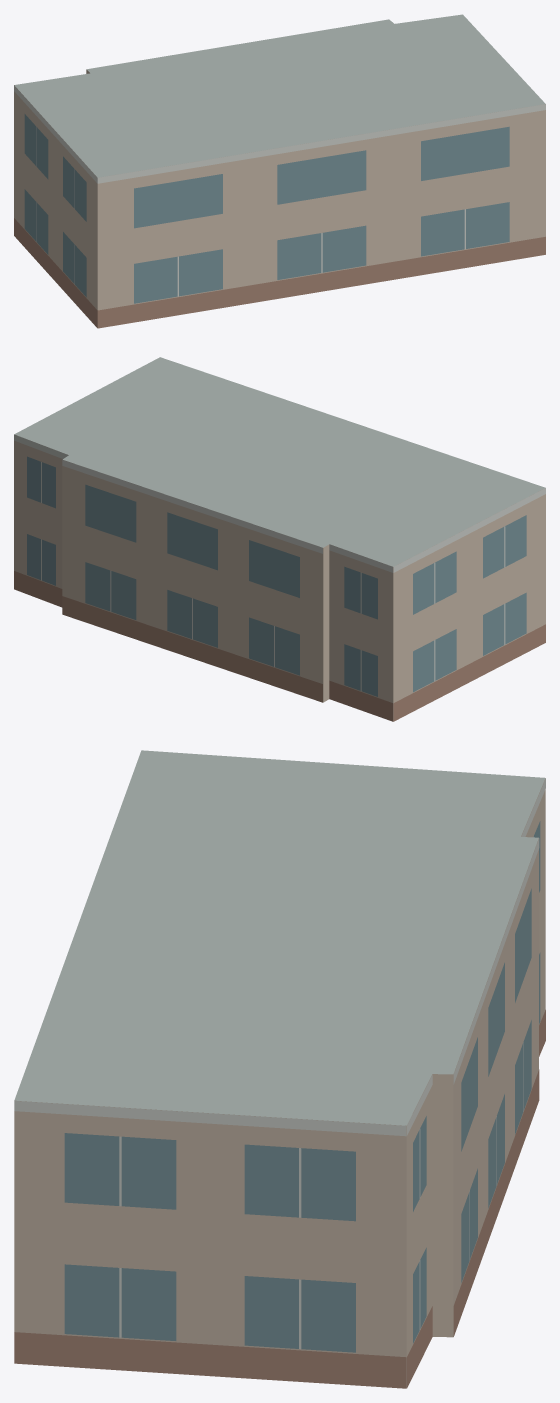
File: survey-upis-33022418.glb
3 views of the same model, one above another, from view 1: azimuth 30°, elevation 25°; view 2: azimuth 150°, elevation 25°; view 3: azimuth 270°, elevation 25° (orthographic). The views are drawn at different scales.
Parts seen in each view (by area): view 1: survey-upis-33022418.tmp; view 2: survey-upis-33022418.tmp; view 3: survey-upis-33022418.tmp.
Boxes of the visible parts, x1=… form: survey-upis-33022418.tmp: x1=14, y1=14, x2=545, y2=328; survey-upis-33022418.tmp: x1=14, y1=357, x2=545, y2=721; survey-upis-33022418.tmp: x1=14, y1=750, x2=545, y2=1388.
Size of the model in its own units: 18.7 by 6.1 by 11.19.
